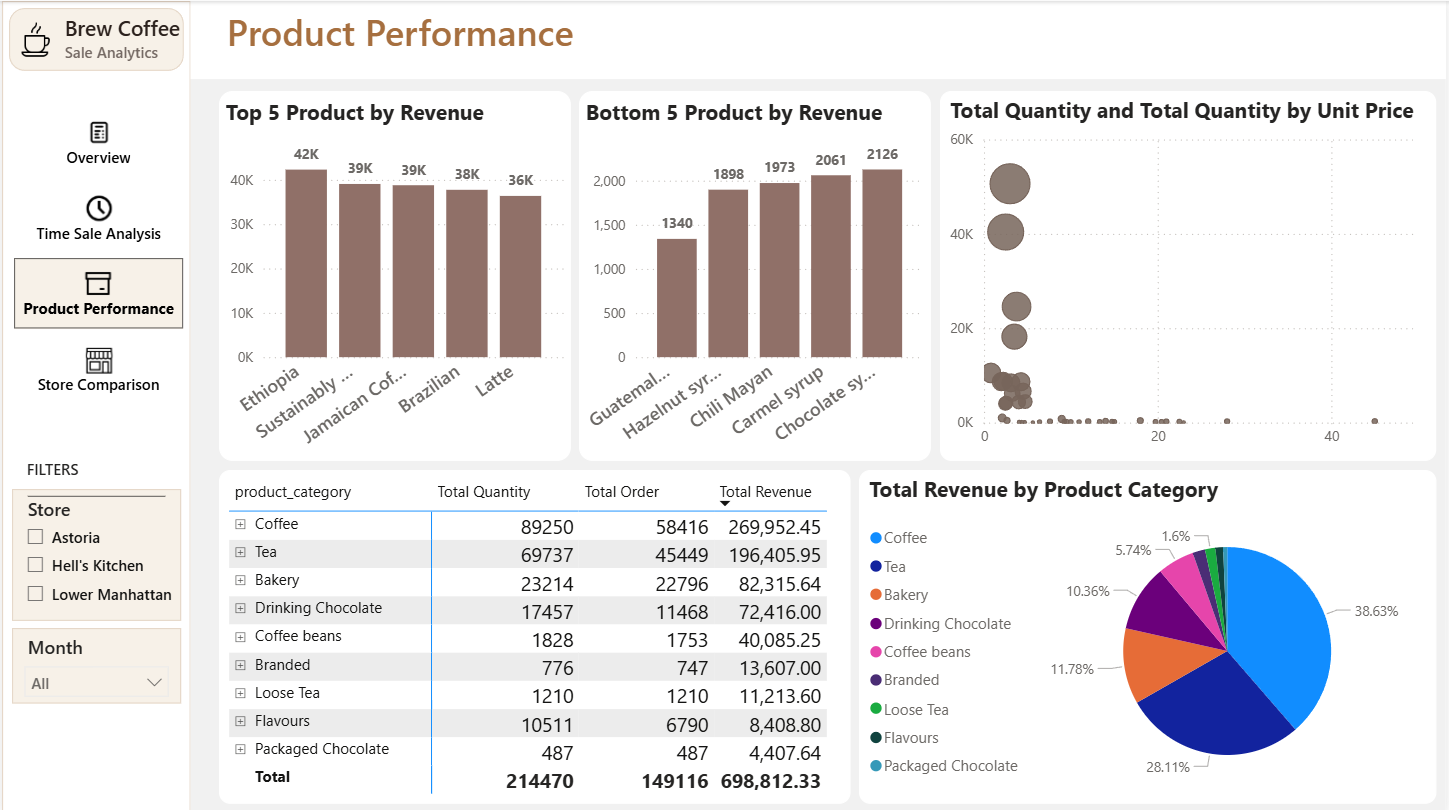

The page's visual inventory and layout, read from the dashboard file:
{"tool":"powerbi","page":{"name":"Product Performance","canvas":[1280,720],"ordinal":2},"visuals":[{"type":"shape","box":[6.5,5.8,155,55.8],"z":0,"group":"g1"},{"type":"pieChart","fields":{"Category":["dim_product.product_category"],"Y":["Measure (2).Total Revenue"]},"box":[760,416,512,296],"z":0},{"type":"textbox","box":[50.6,5.8,116.7,58.7],"z":1000,"group":"g1"},{"type":"pivotTable","fields":{"Rows":["dim_product.product_category Hierarchy.product_category","dim_product.product_category Hierarchy.product_detail"],"Values":["Measure (2).Total Quantity","Measure (2).Total Order","Measure (2).Total Revenue"]},"box":[192,416,560,296],"z":1000},{"type":"image","box":[5.7,17.3,49,32.7],"z":2000,"group":"g1"},{"type":"clusteredColumnChart","title":"Top 5 Product by Revenue","fields":{"Category":["dim_product.product_detail"],"Y":["Measure (2).Total Revenue"]},"box":[192,80,312,328],"z":2000},{"type":"scatterChart","fields":{"X":["fact_sales.unit_price"],"Y":["Measure (2).Total Quantity"],"Size":["Measure (2).Total Quantity"]},"box":[832,80,440,328],"z":3000},{"type":"columnChart","title":"Bottom 5 Product by Revenue","fields":{"Y":["Measure (2).Total Revenue"],"Category":["dim_product.product_detail"]},"box":[512,80,312,328],"z":4000},{"type":"shape","box":[0,0,167.3,720.3],"z":5000},{"type":"actionButton","box":[10.6,94.2,150,62],"z":6000},{"type":"actionButton","box":[10.6,161.1,150,62],"z":7000},{"type":"actionButton","box":[10.6,227.9,150,62.5],"z":8000},{"type":"actionButton","box":[10.6,295.2,150,62],"z":9000},{"type":"group","id":"g1","title":"Group 1","box":[5.7,5.8,161.6,58.7],"z":10000},{"type":"slicer","title":"Category","fields":{"Values":["dim_store.store_location"]},"box":[9,432.9,150,117.3],"z":11000},{"type":"slicer","title":"Month","fields":{"Values":["dim_date.month"]},"box":[9,556,150,67.3],"z":12000},{"type":"textbox","box":[17,402,58,31],"z":13000},{"type":"textbox","box":[194,0,349,62],"z":14000}]}

Visuals, with their boxes on the page's 1280x720 design canvas (x1, y1, x2, y2). These are canvas units, not pixel positions in the 1449x810 screenshot, which may show the page scaled, cropped or inside an application window:
shape: bbox=(6, 6, 162, 62)
pieChart - dim_product.product_category x Measure (2).Total Revenue: bbox=(760, 416, 1272, 712)
textbox: bbox=(51, 6, 167, 64)
pivotTable - dim_product.product_category Hierarchy.product_category x dim_product.product_category Hierarchy.product_detail: bbox=(192, 416, 752, 712)
image: bbox=(6, 17, 55, 50)
"Top 5 Product by Revenue" clusteredColumnChart: bbox=(192, 80, 504, 408)
scatterChart - fact_sales.unit_price x Measure (2).Total Quantity: bbox=(832, 80, 1272, 408)
"Bottom 5 Product by Revenue" columnChart: bbox=(512, 80, 824, 408)
shape: bbox=(0, 0, 167, 720)
actionButton: bbox=(11, 94, 161, 156)
actionButton: bbox=(11, 161, 161, 223)
actionButton: bbox=(11, 228, 161, 290)
actionButton: bbox=(11, 295, 161, 357)
"Group 1" group: bbox=(6, 6, 167, 64)
"Category" slicer: bbox=(9, 433, 159, 550)
"Month" slicer: bbox=(9, 556, 159, 623)
textbox: bbox=(17, 402, 75, 433)
textbox: bbox=(194, 0, 543, 62)
